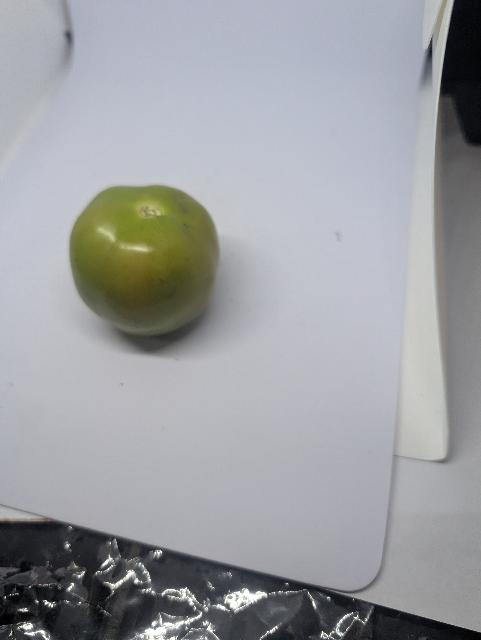green: (68, 183, 221, 342)
